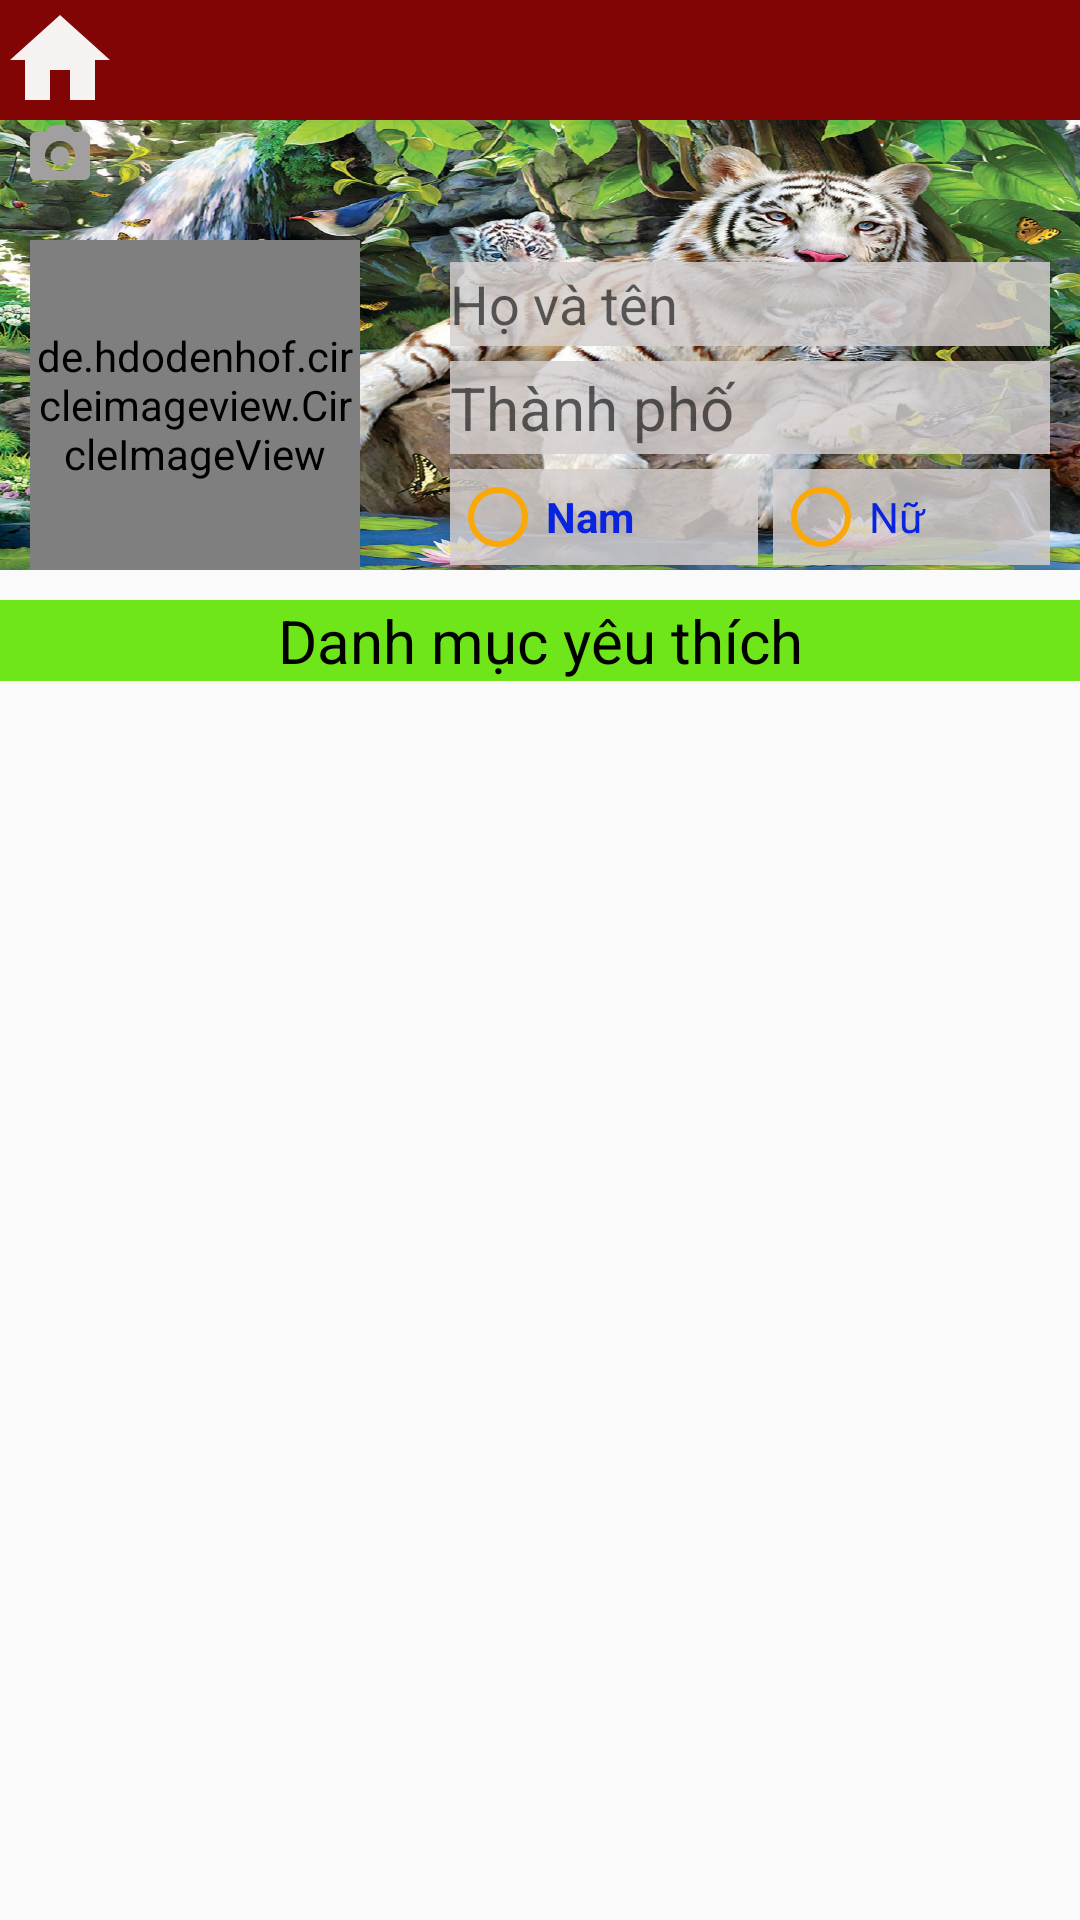

Named icons in this screenshot (1080px x 1920px) and their centers, point (x, y):
home: point (60, 57)
